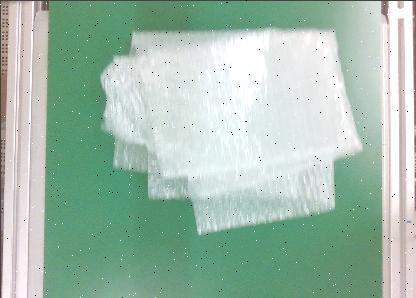Others: (96, 26, 372, 236)
